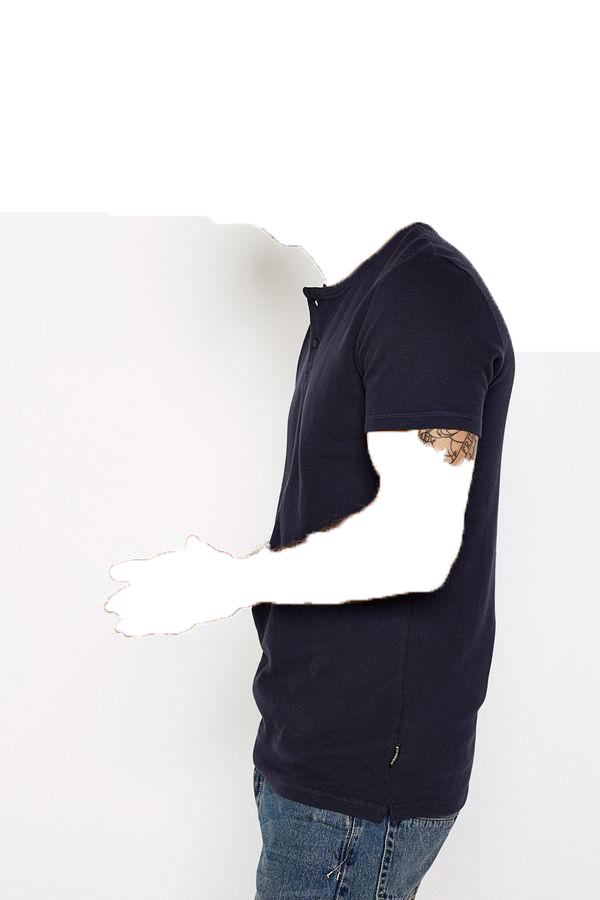teeshirt: (259, 222, 522, 819)
